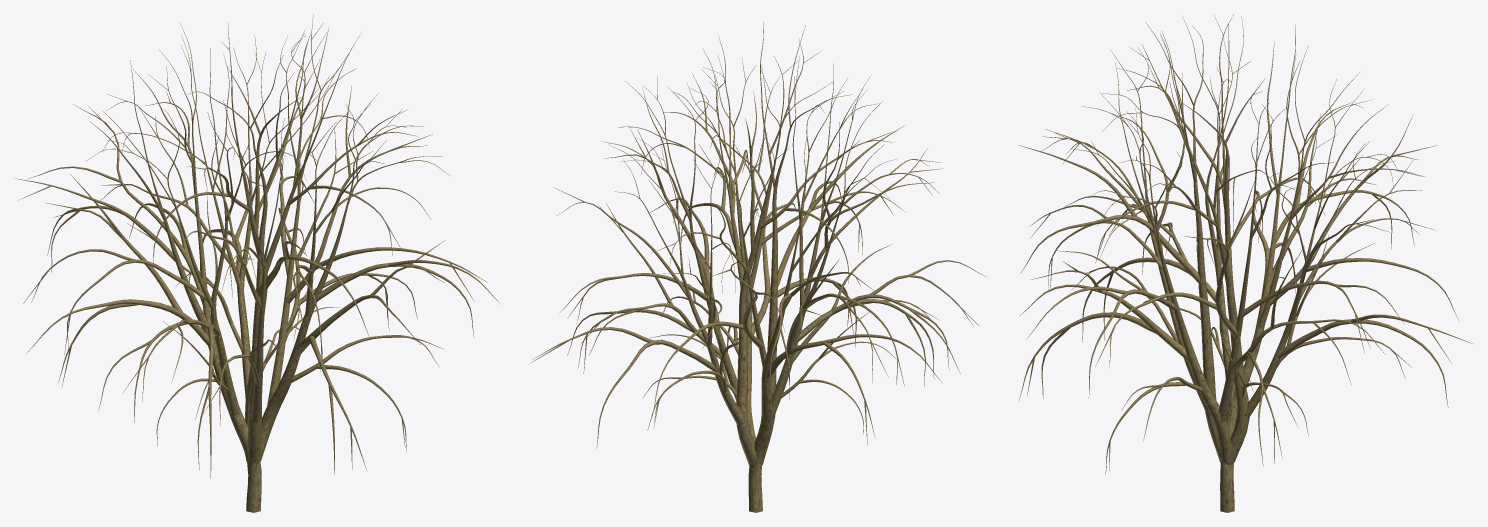
File: basic_terrain_v3_tree_001_003.dae
3 views of the same model, side by side, from view 1: azimuth 30°, elevation 25°; view 2: azimuth 150°, elevation 25°; view 3: azimuth 270°, elevation 25° (orthographic). The views are drawn at different scales.
Parts seen in each view (by area): view 1: tree_001_003; view 2: tree_001_003; view 3: tree_001_003.
Part boxes in pixels (<box>): tree_001_003: <box>14,14,501,512</box>; tree_001_003: <box>530,22,986,512</box>; tree_001_003: <box>1018,14,1472,512</box>.
Bounding box in the file's own units: 3 × 3.03 × 3.59.
Materials: 1 (1 with a texture image).
